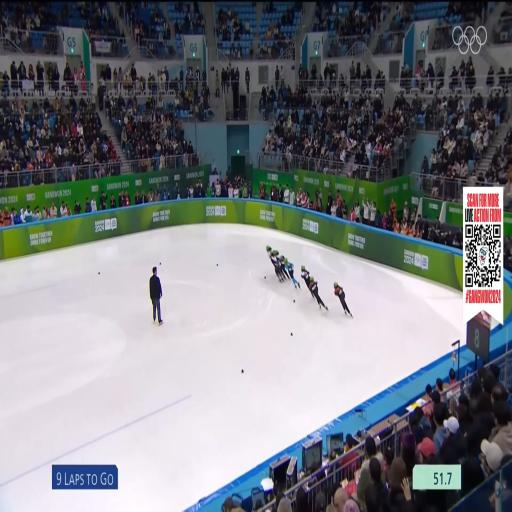Skater: (334, 282, 353, 317), (309, 276, 328, 310), (265, 244, 282, 282), (284, 258, 300, 288), (270, 250, 284, 282), (302, 266, 314, 298), (279, 255, 290, 279)
